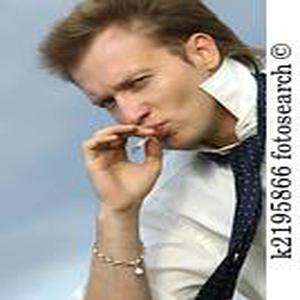cigarette: (133, 134, 152, 152)
